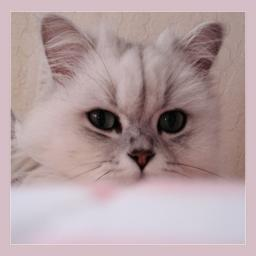catnose: (129, 149, 155, 168)
